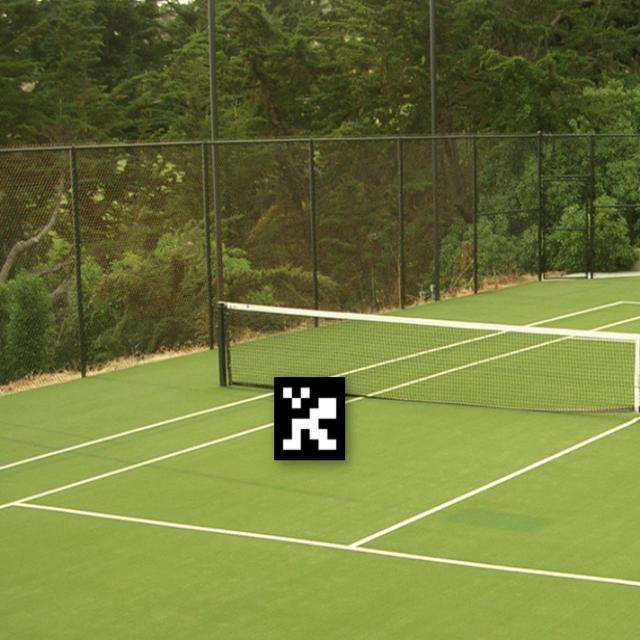marker: (267, 368, 356, 470)
